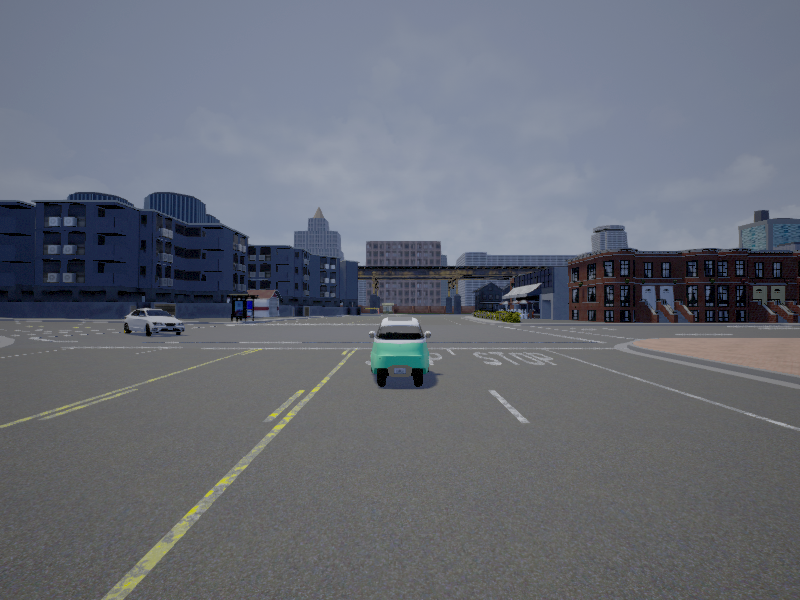Benign: (369, 317, 431, 389), (124, 307, 184, 336)
